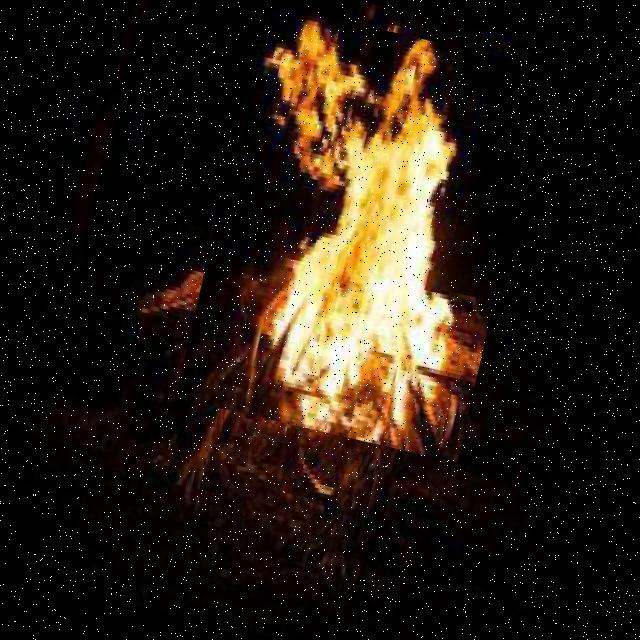fire: (175, 2, 548, 462)
